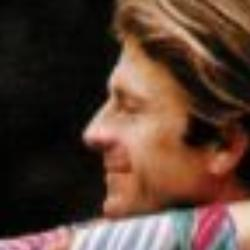face: (83, 1, 250, 220)
